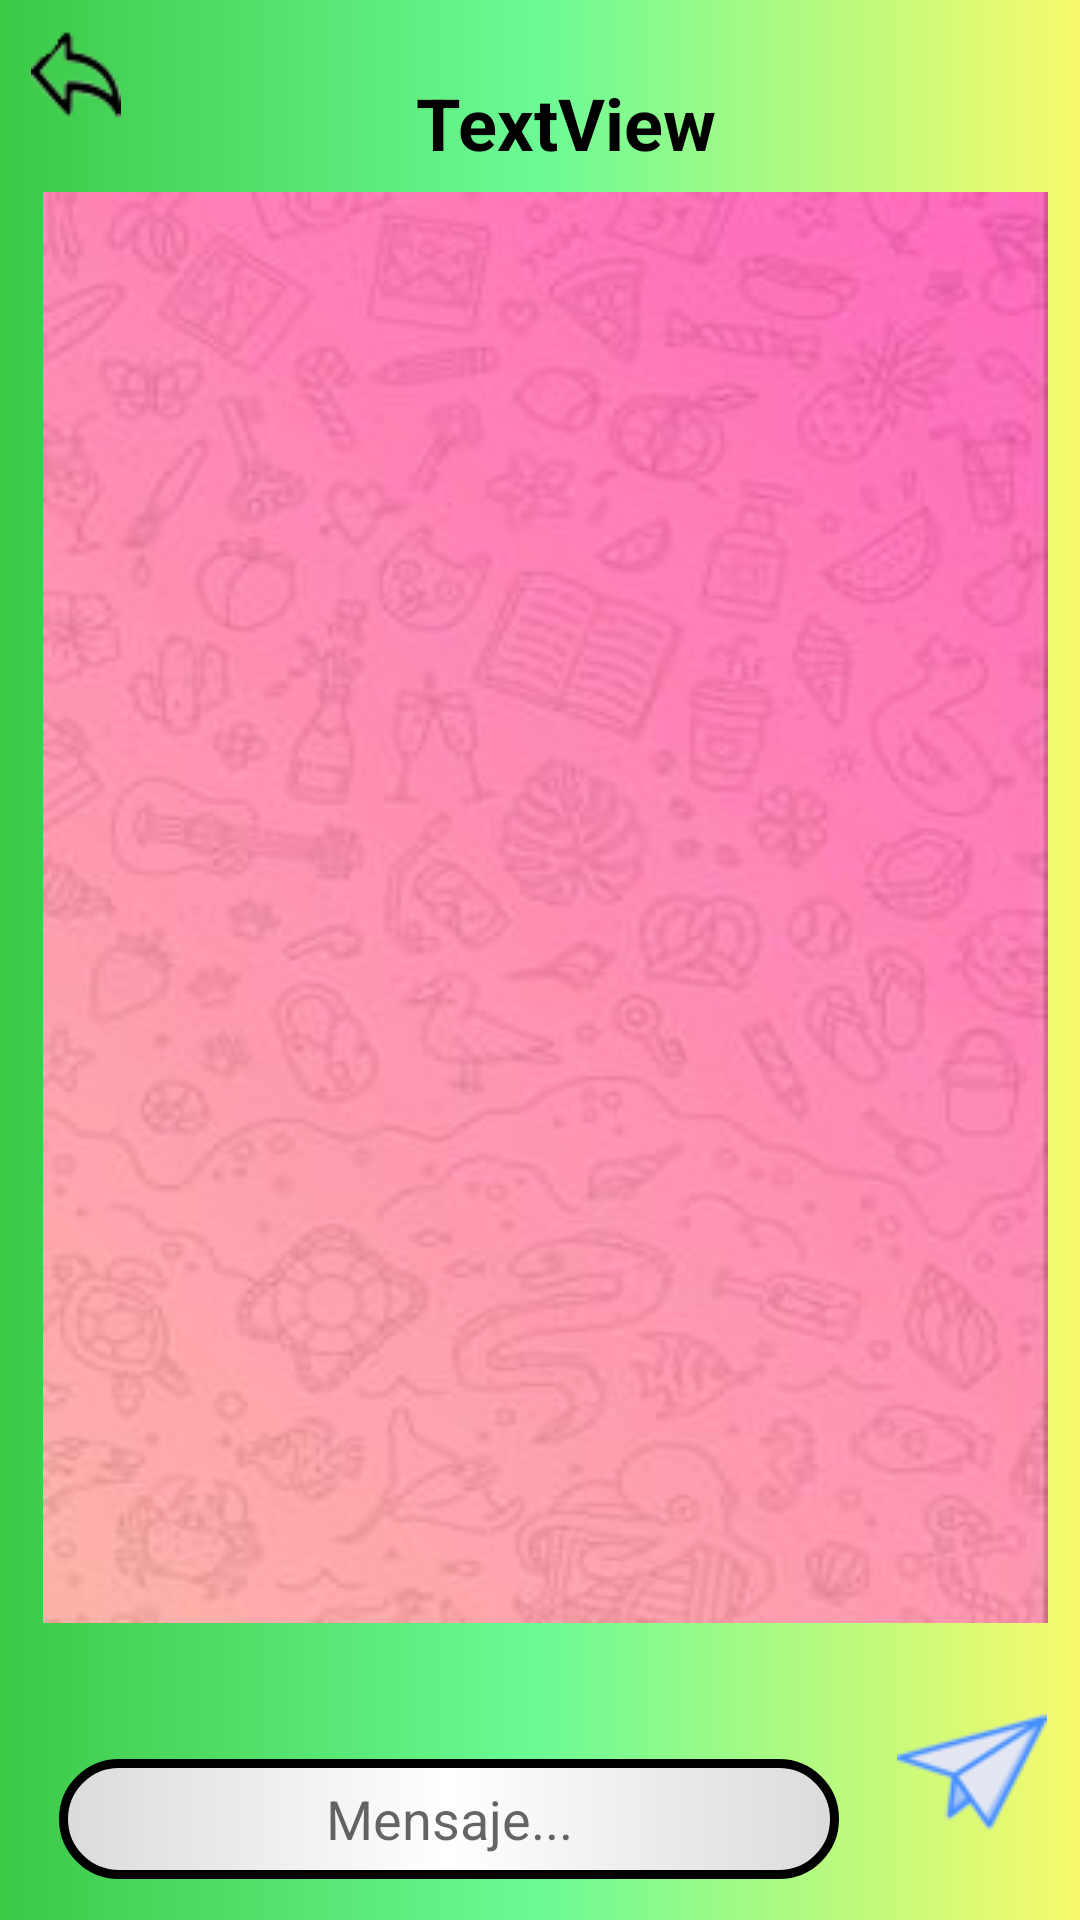

Icons on this 1080 × 1920 Android screen, each with the point to tap as [x,y]:
back: [66,72]
envia msg: [972,1771]
